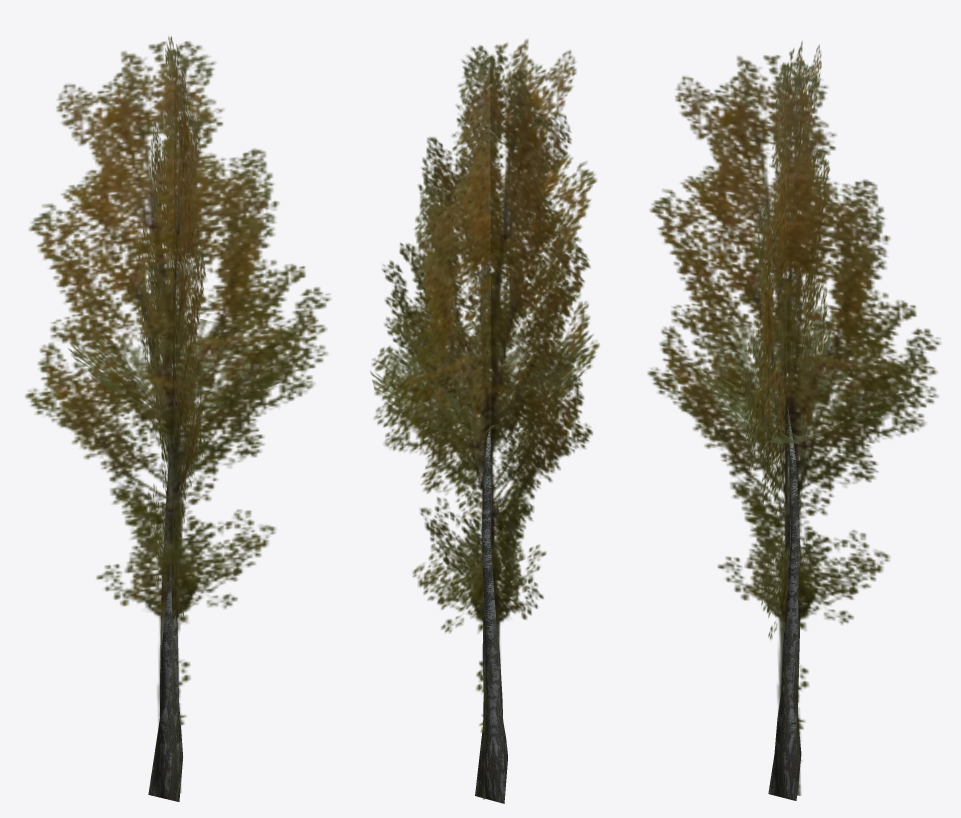
Rendered from Birch_154.gltf.
3 renders of one model, left to right at view 1: azimuth 30°, elevation 25°; view 2: azimuth 150°, elevation 25°; view 3: azimuth 270°, elevation 25°, orthographic.
Parts seen in each view (by area): view 1: Birch_154; view 2: Birch_154; view 3: Birch_154.
Part boxes in pixels (bbox=[...]): Birch_154: bbox=[25, 36, 330, 801]; Birch_154: bbox=[370, 39, 599, 803]; Birch_154: bbox=[647, 41, 940, 800].
Size of the model in its own units: 9.65 by 25.91 by 9.65.
2 materials, 2 textured.
